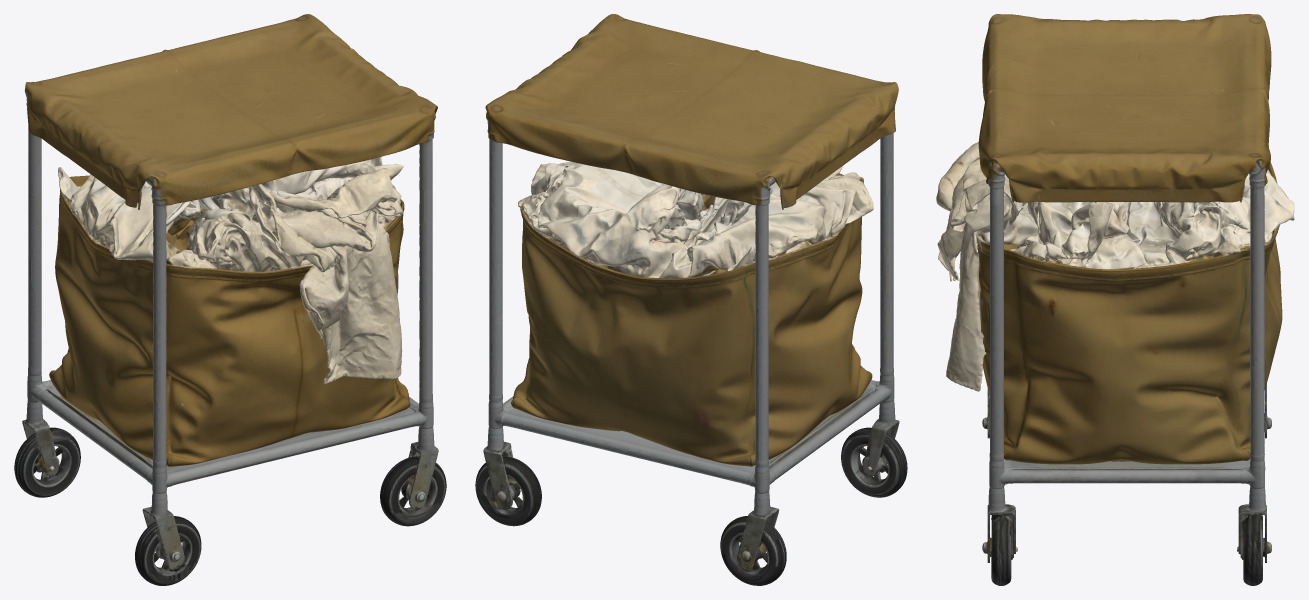
File: CompleteDirtyLaundryCart.glb
The picture shows the model from 3 angles, left to right: view 1: azimuth 30°, elevation 25°; view 2: azimuth 150°, elevation 25°; view 3: azimuth 270°, elevation 25°; orthographic projection. The views are drawn at different scales.
Size of the model in its own units: 1.47 by 1.9 by 1.42.
Materials: 1 (1 with a texture image).
